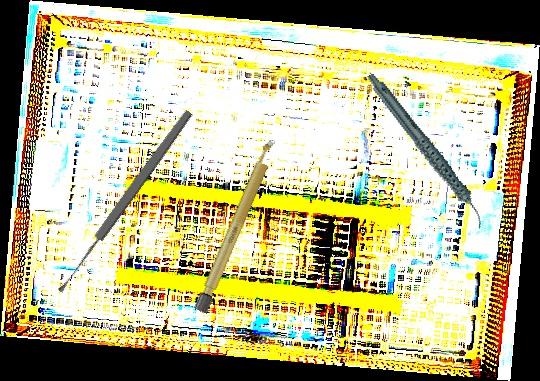Handpiece: (366, 56, 487, 246)
Scalpel Handle: (193, 136, 281, 315)
Surgical Spoon: (54, 108, 195, 295)
